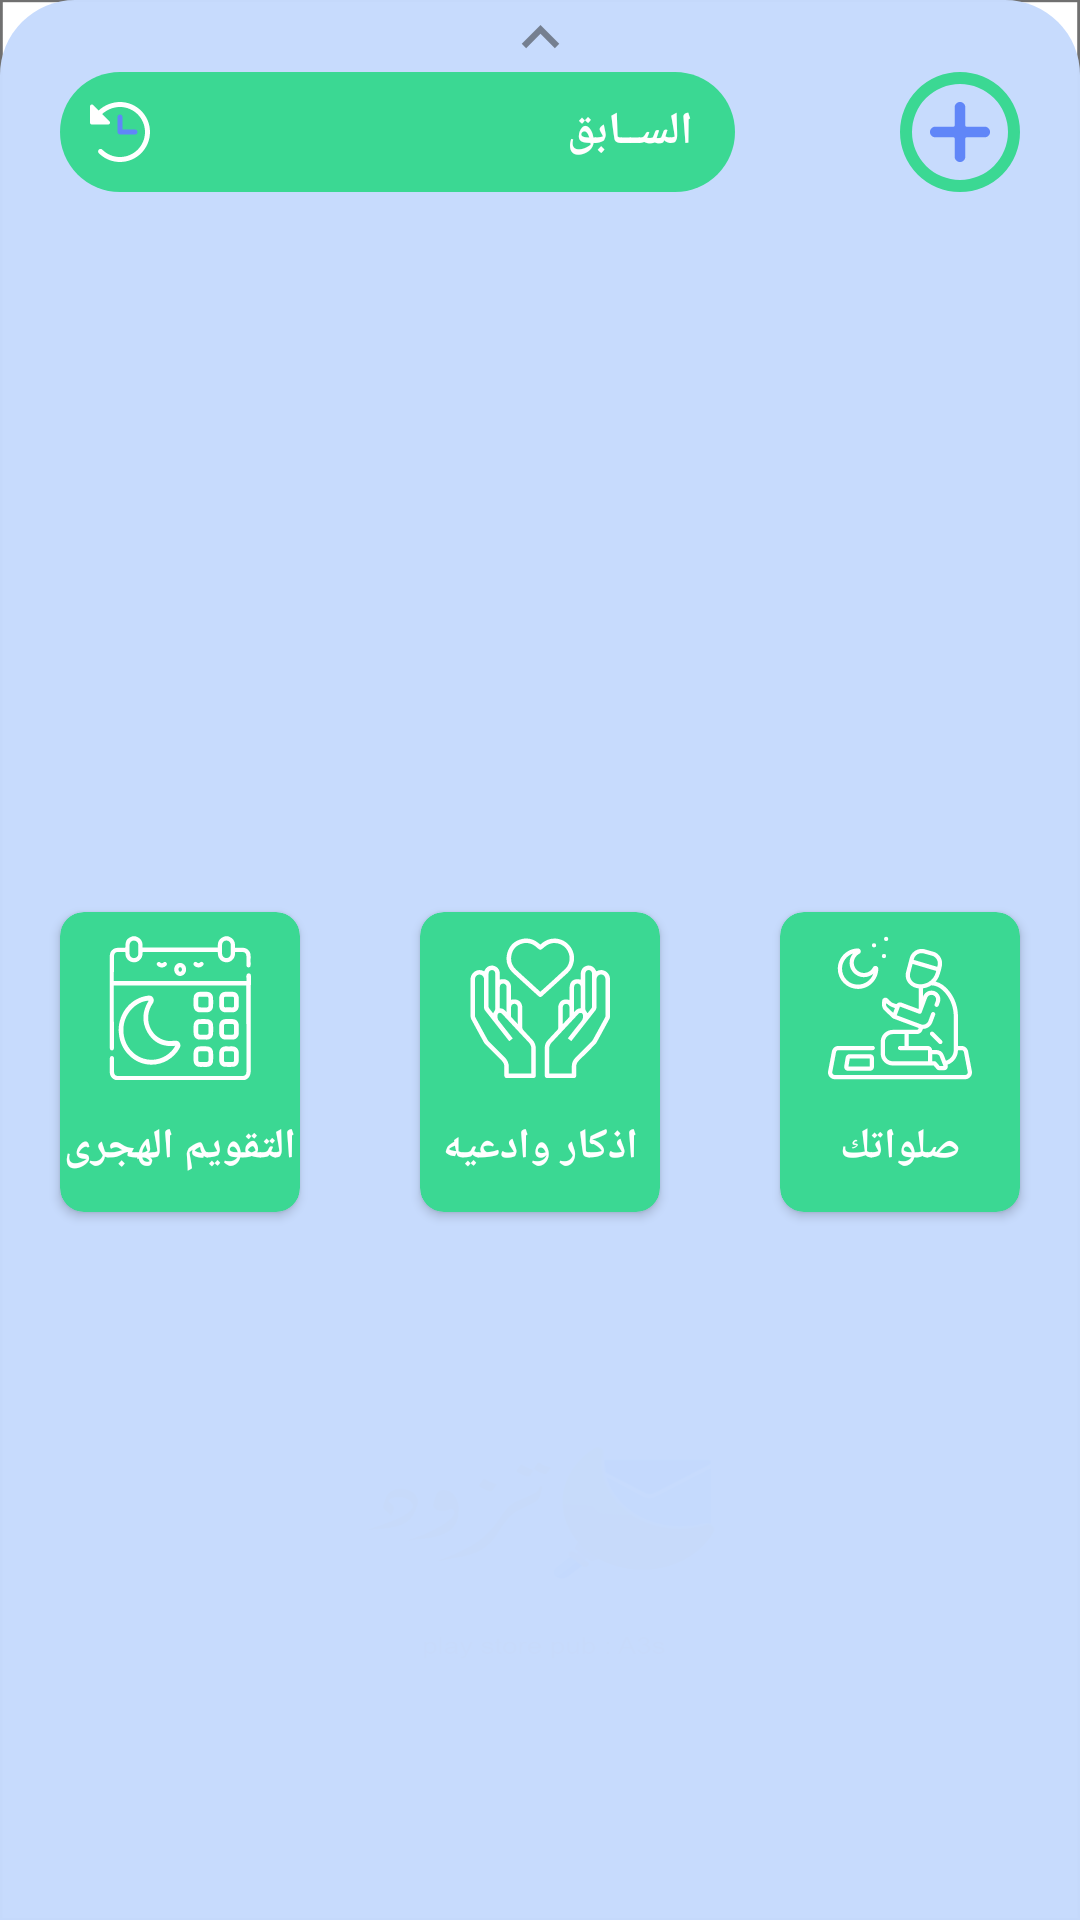

Icon click points for this 1080w x 1920h phone screenshot, format (x=x, y=y):
add: (x=960, y=132)
islamic calender: (x=180, y=1008)
praying: (x=900, y=1008)
solidarity: (x=540, y=1008)
